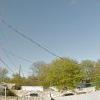Tree: (36, 44, 100, 97)
